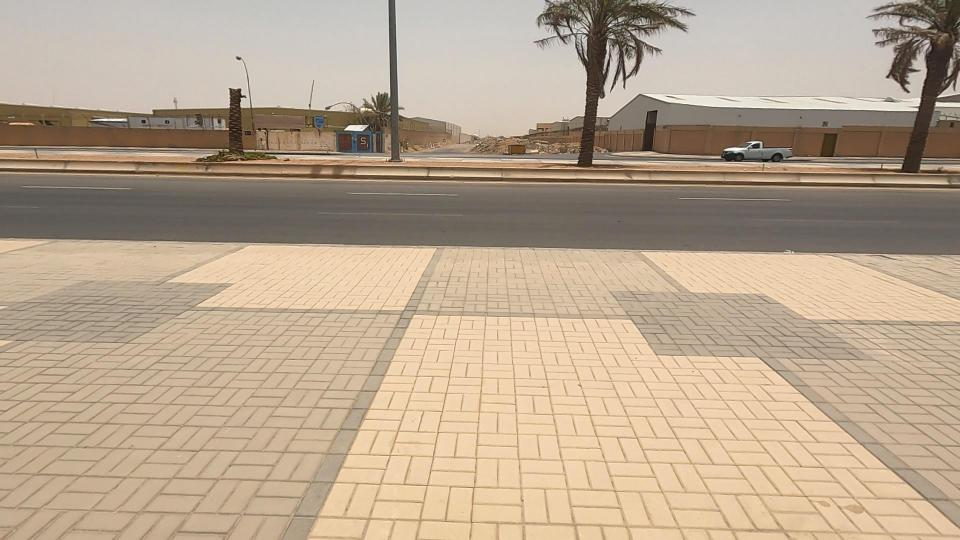CLUTTER_SIDEWALK: (573, 128, 848, 208), (202, 125, 548, 187), (16, 127, 200, 176)
